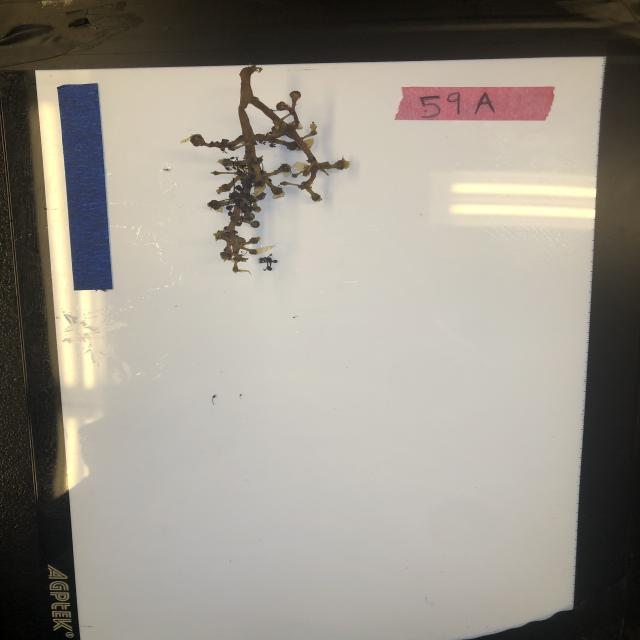index: (393, 86, 553, 121)
measure_label: (55, 80, 115, 292)
rachis_cluster: (173, 64, 351, 278)
